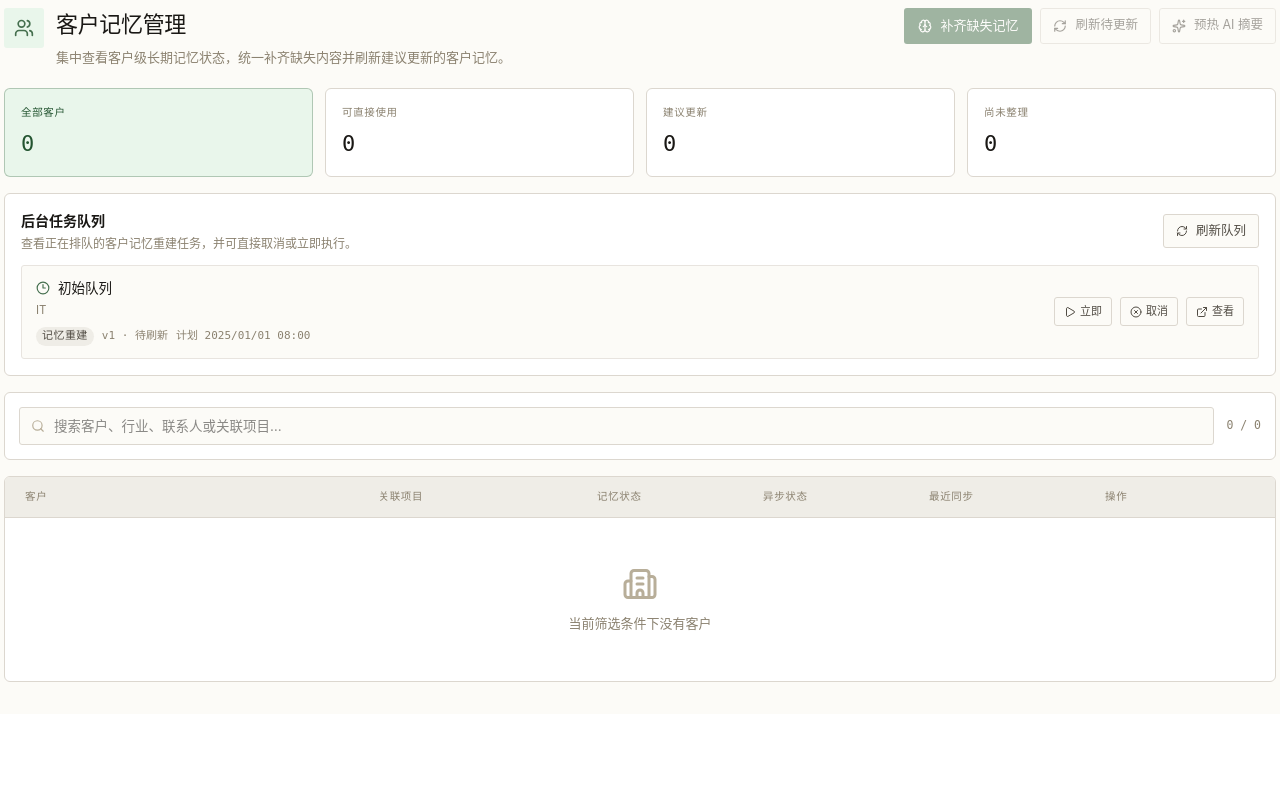
ClientMemorySettings › keeps the newest queue refresh when job requests finish out of order
The image size is (1280, 800).
Check: the text "初始队列" is shown, box [58,278,112,298]
Click the button "刷新队列": [1211, 231] box [1163,214,1259,248]
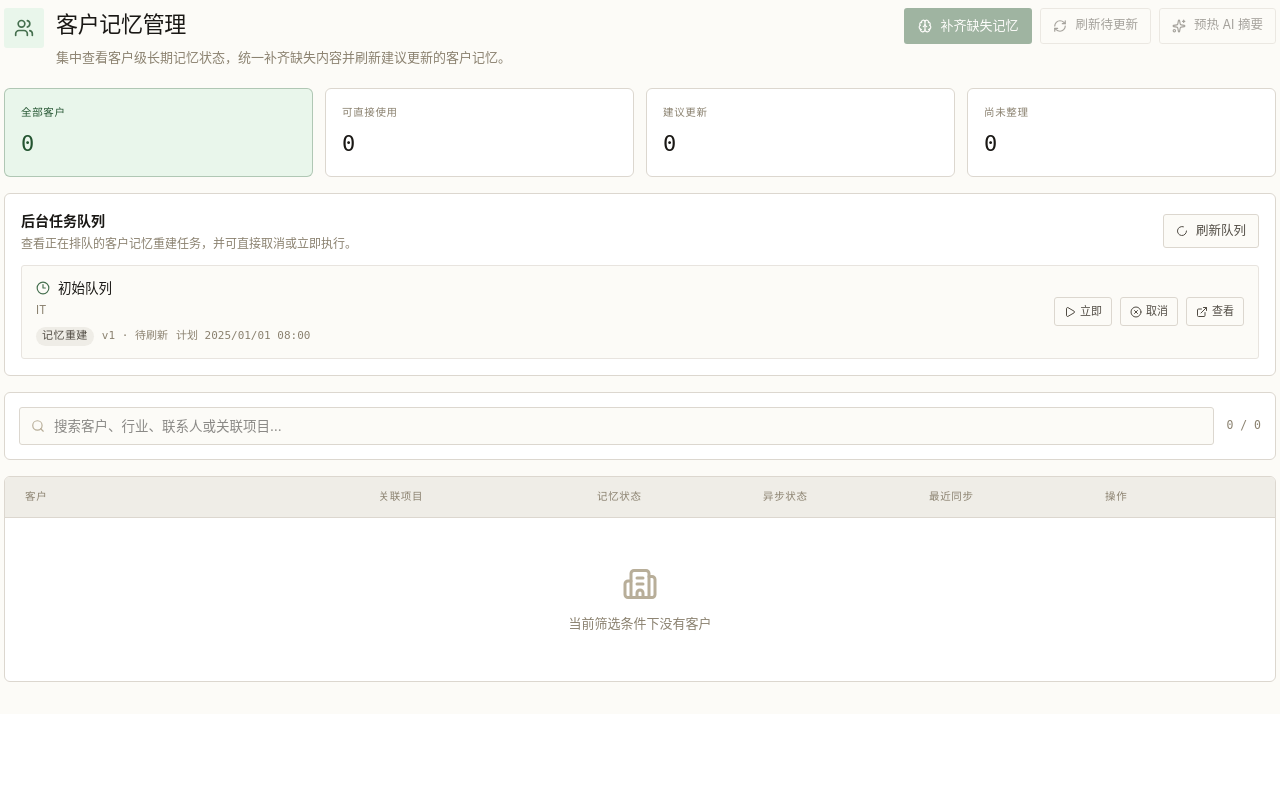
Click the button "刷新队列": [1211, 231] box [1163,214,1259,248]
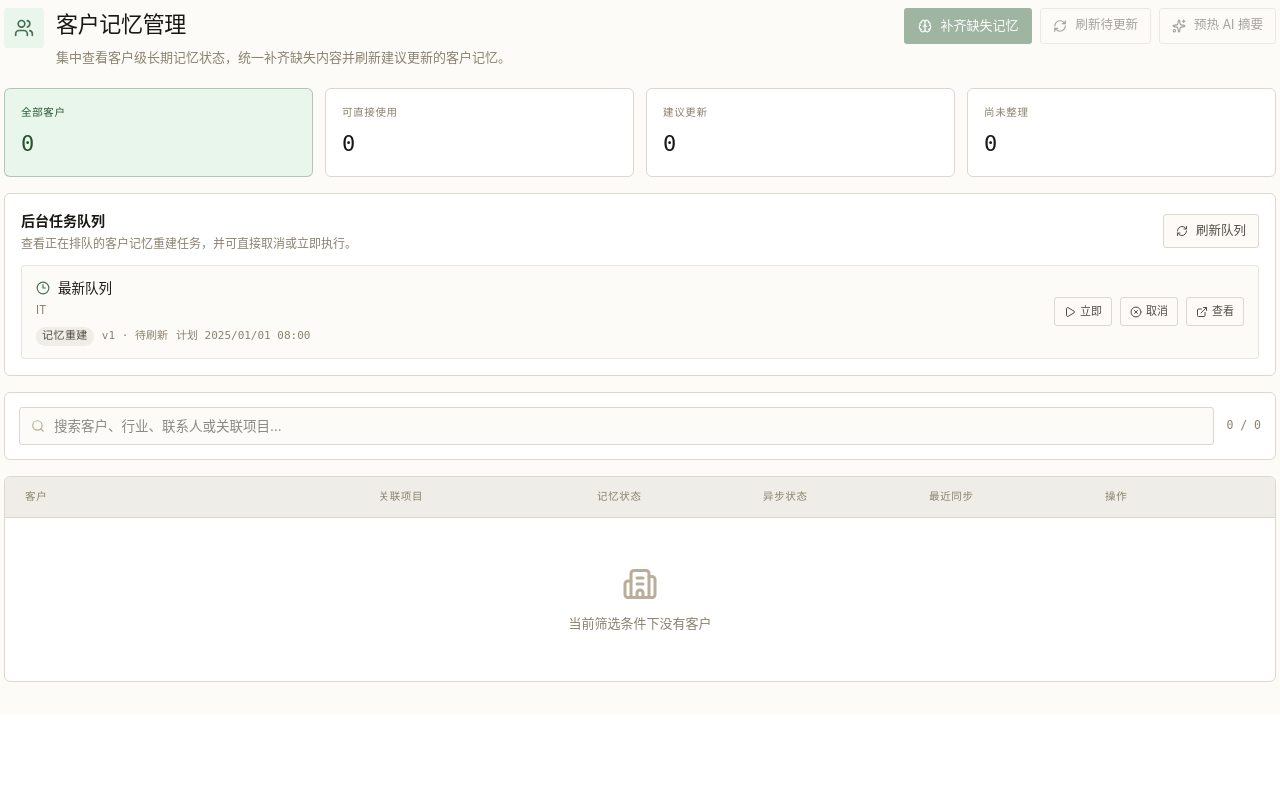
Check: the text "最新队列" is shown, box [58,278,112,298]
